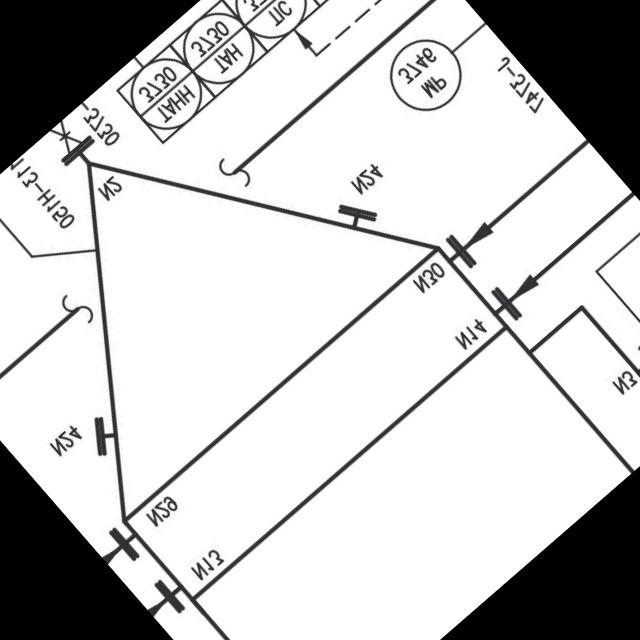GV: (39, 110, 97, 166)
